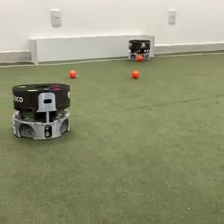ball: (130, 68, 141, 78), (68, 68, 77, 78), (136, 53, 144, 62)
goal: (28, 32, 156, 67)
robot: (10, 81, 73, 141), (127, 38, 151, 61)
